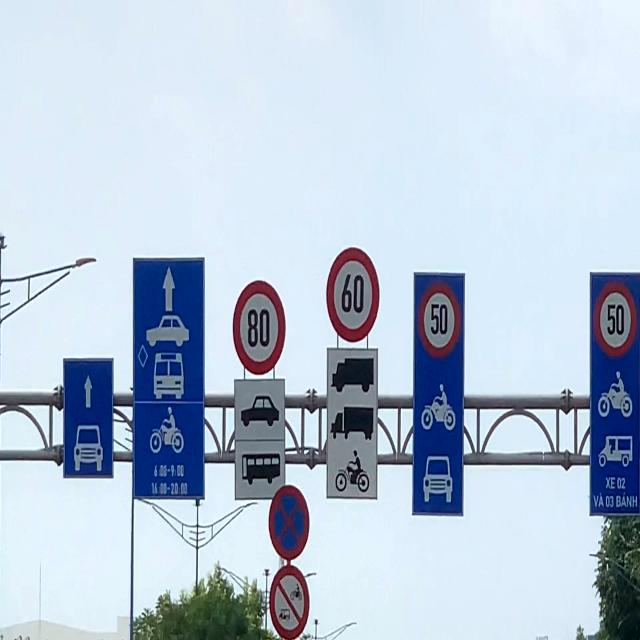P.127: (326, 240, 384, 343), (234, 278, 288, 373), (594, 276, 638, 358), (418, 278, 460, 358)
P.130: (266, 483, 312, 563)
